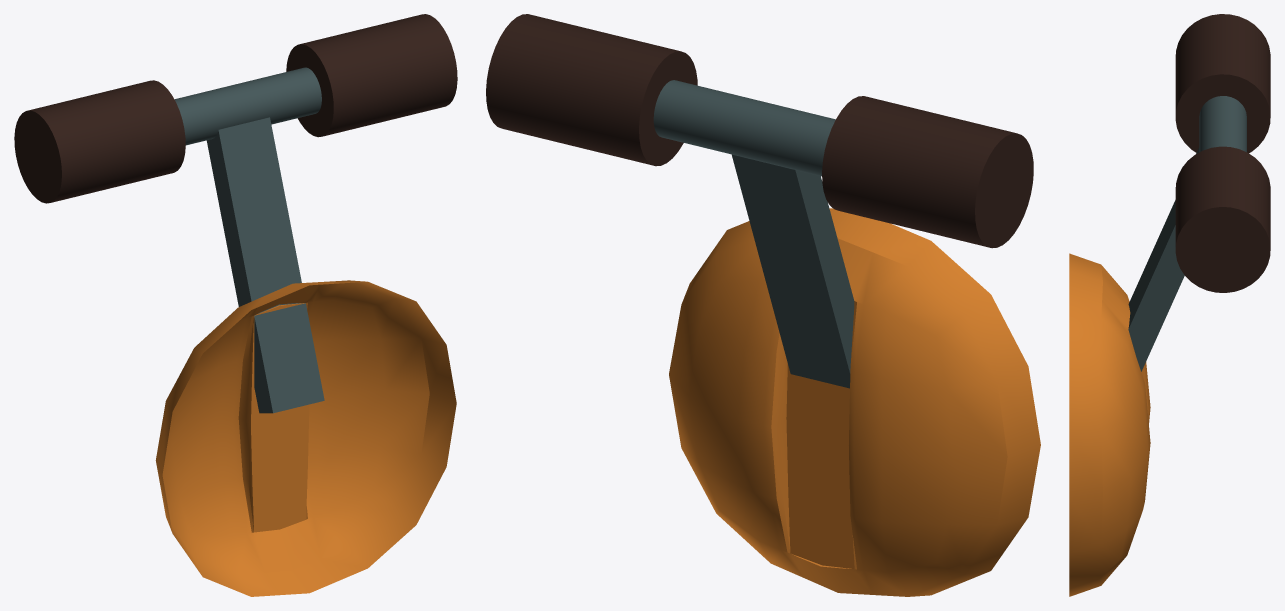
Rendered from lever.glb.
3 renders of one model, left to right at view 1: azimuth 30°, elevation 25°; view 2: azimuth 150°, elevation 25°; view 3: azimuth 270°, elevation 25°, orthographic. The views are drawn at different scales.
Parts seen in each view (by area): view 1: Base, Cylinder; view 2: Base, Cylinder; view 3: Cylinder, Base.
Part boxes in pixels (<box>): Base: <box>155,280,456,596</box>; Cylinder: <box>14,14,457,413</box>; Base: <box>669,208,1040,596</box>; Cylinder: <box>486,14,1033,388</box>; Cylinder: <box>1128,14,1270,371</box>; Base: <box>1069,253,1150,596</box>.
Bounding box in the file's own units: 0.7671 × 0.8719 × 0.3383.
1 material, 1 textured.
